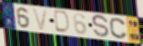6: (73, 13, 89, 36), (16, 6, 31, 29)
C: (109, 17, 129, 40)
D: (54, 10, 71, 35)
S: (92, 14, 110, 40)
V: (31, 7, 49, 32)
